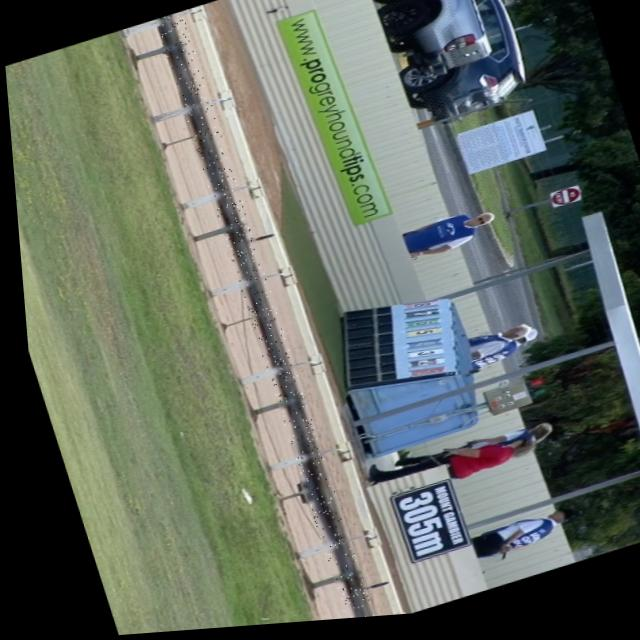rail: (154, 18, 362, 622)
